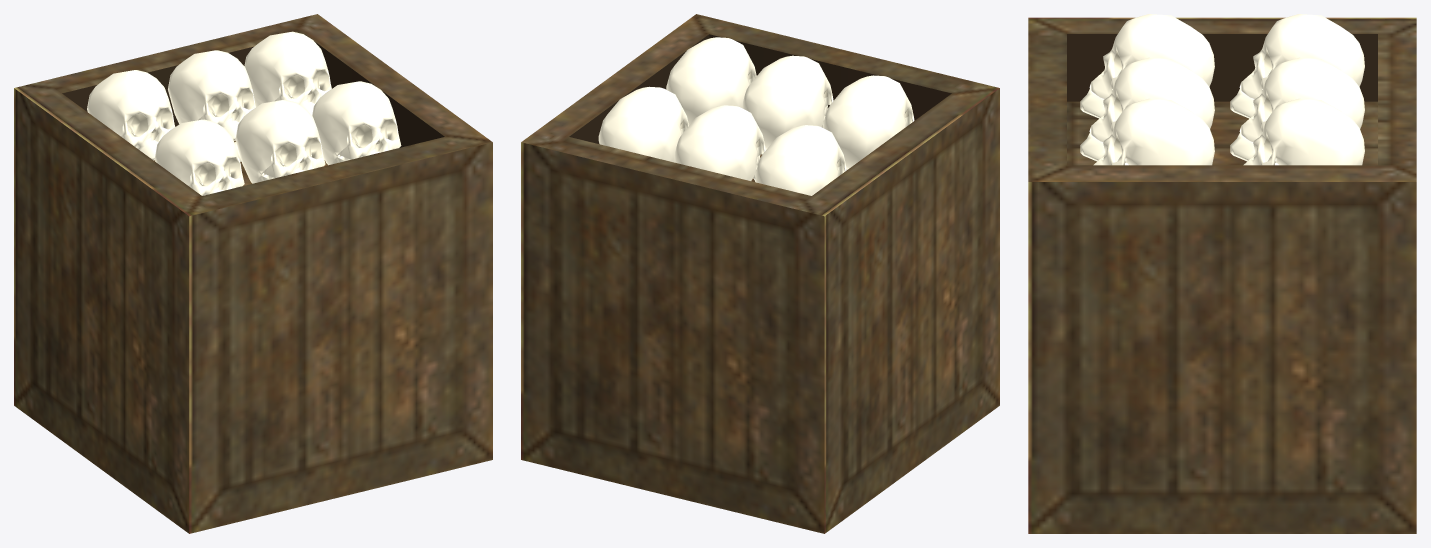
The model's file is 1ca5ed87-03e0-4022-8ccc-befa09d5daf9.glb.
The picture shows the model from 3 angles, left to right: view 1: azimuth 30°, elevation 25°; view 2: azimuth 150°, elevation 25°; view 3: azimuth 270°, elevation 25°; orthographic projection. The views are drawn at different scales.
Visible parts, largest first — view 1: CrateSkulls01; view 2: CrateSkulls01; view 3: CrateSkulls01.
Part boxes in pixels (<box>): CrateSkulls01: <box>14,14,492,533</box>; CrateSkulls01: <box>521,14,999,533</box>; CrateSkulls01: <box>1028,14,1416,533</box>.
Size of what is drawn, in the model's own units: 0.9043 by 1 by 0.9043.
Materials: 1 (1 with a texture image).
